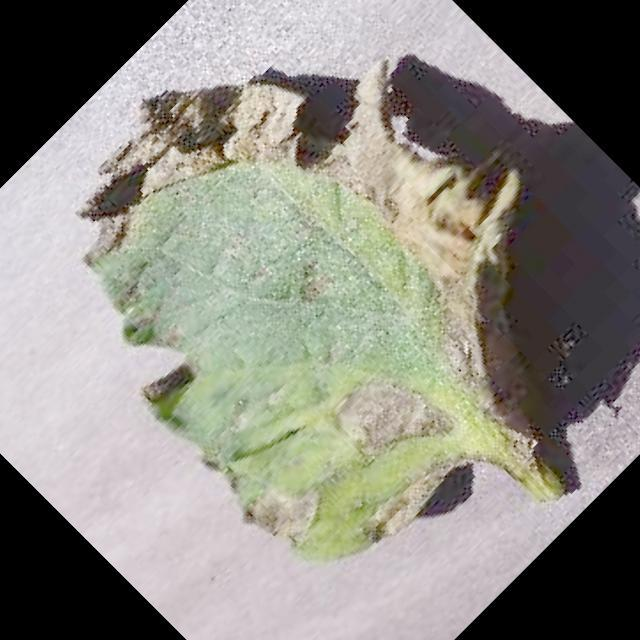Tomato Early blight leaf: (0, 0, 631, 595)
